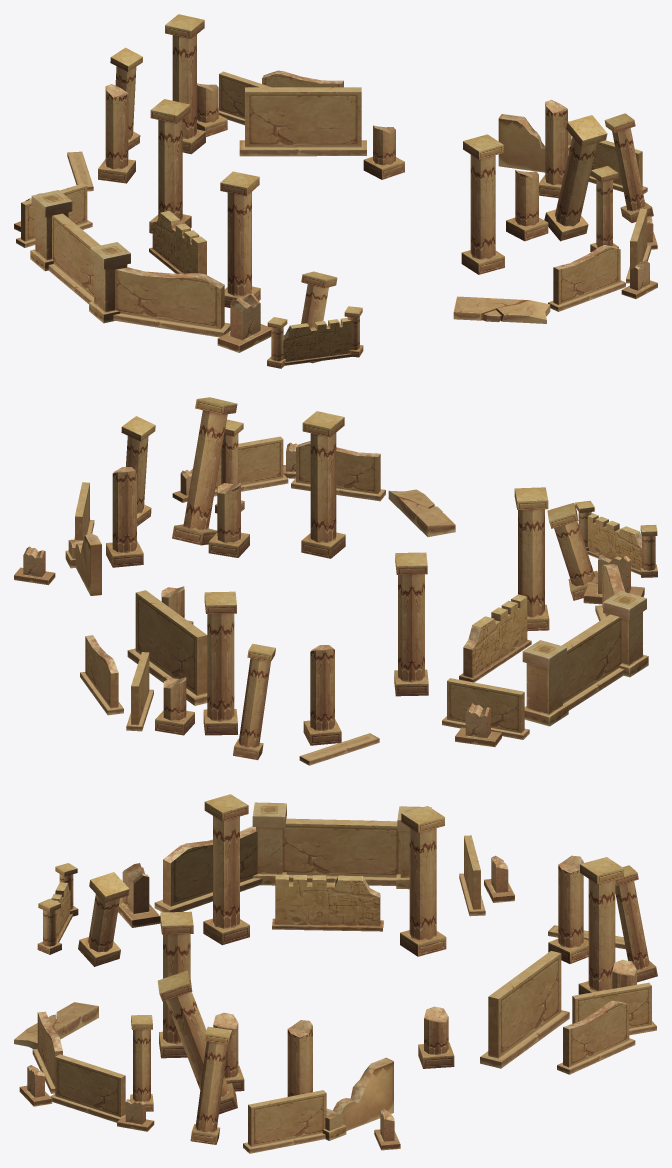
The model's file is qiangmian_09_y.FBX.
3 renders of one model, top to bottom at view 1: azimuth 30°, elevation 25°; view 2: azimuth 150°, elevation 25°; view 3: azimuth 270°, elevation 25°, orthographic. The views are drawn at different scales.
Visible parts, largest first — view 1: qiangmian_09_y; view 2: qiangmian_09_y; view 3: qiangmian_09_y.
Boxes of the visible parts, box(x1,y1,x2,y2) form: qiangmian_09_y: box(14, 14, 657, 368); qiangmian_09_y: box(14, 397, 657, 765); qiangmian_09_y: box(14, 794, 657, 1153).
Size of the model in its own units: 5361 by 1332 by 5133.
1 material, 1 textured.
